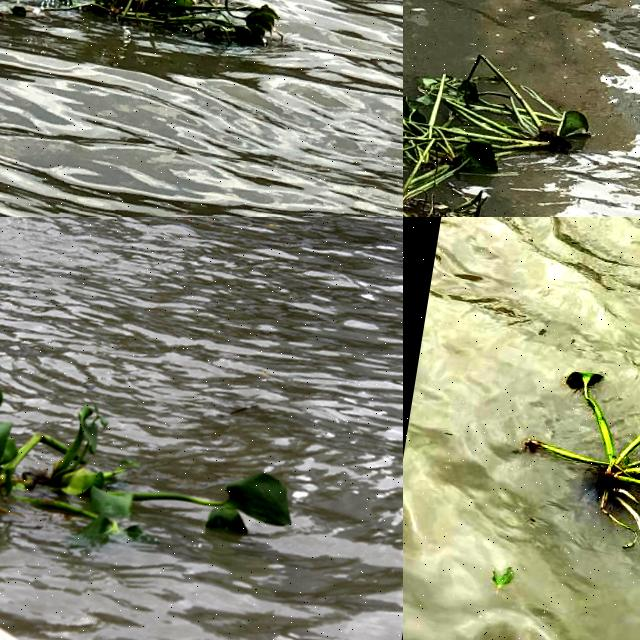water-hyacinth: (1, 401, 296, 562), (405, 14, 602, 218), (507, 345, 640, 568), (1, 1, 295, 74)
